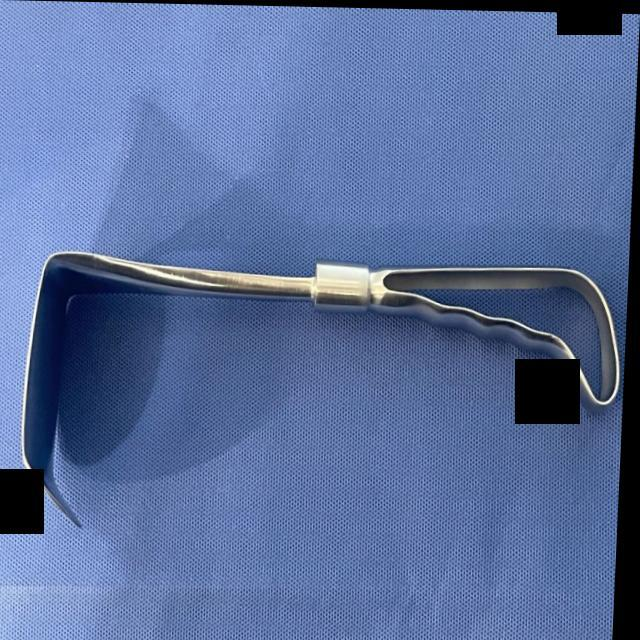Kelly Retractor: (18, 238, 632, 540)
